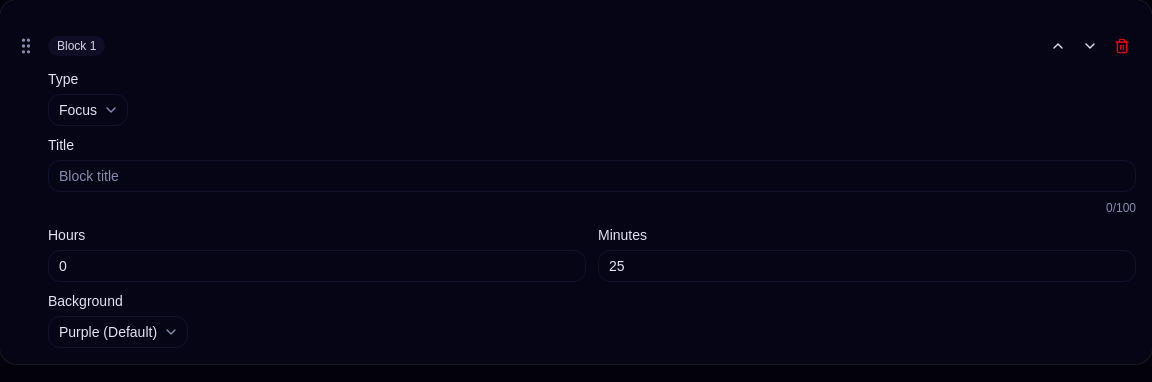
Test case: BlockCard › renders title input and character counter
Expected: the text "0/100" is shown, [1106,201,1136,215]
In the field with placeholder "Block title": [592, 176] box [48,160,1136,192], type "Deep Work"
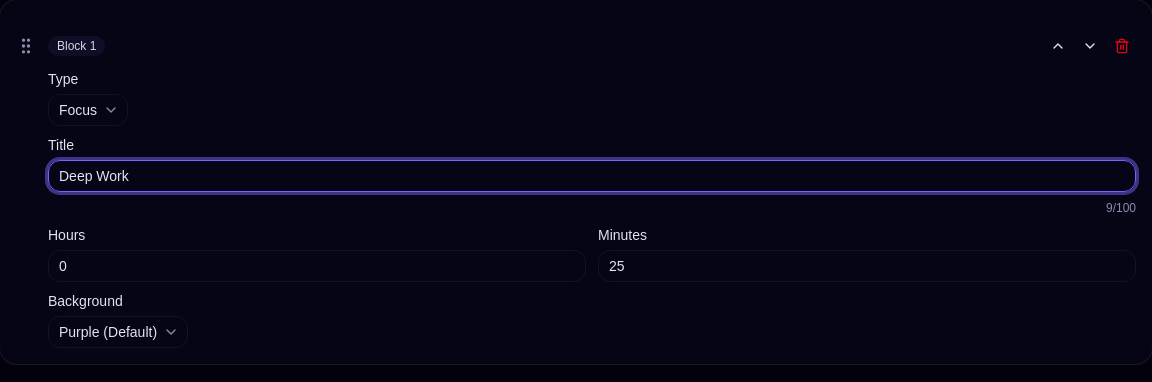
Expected: the text "9/100" is shown, [1106,201,1136,215]
